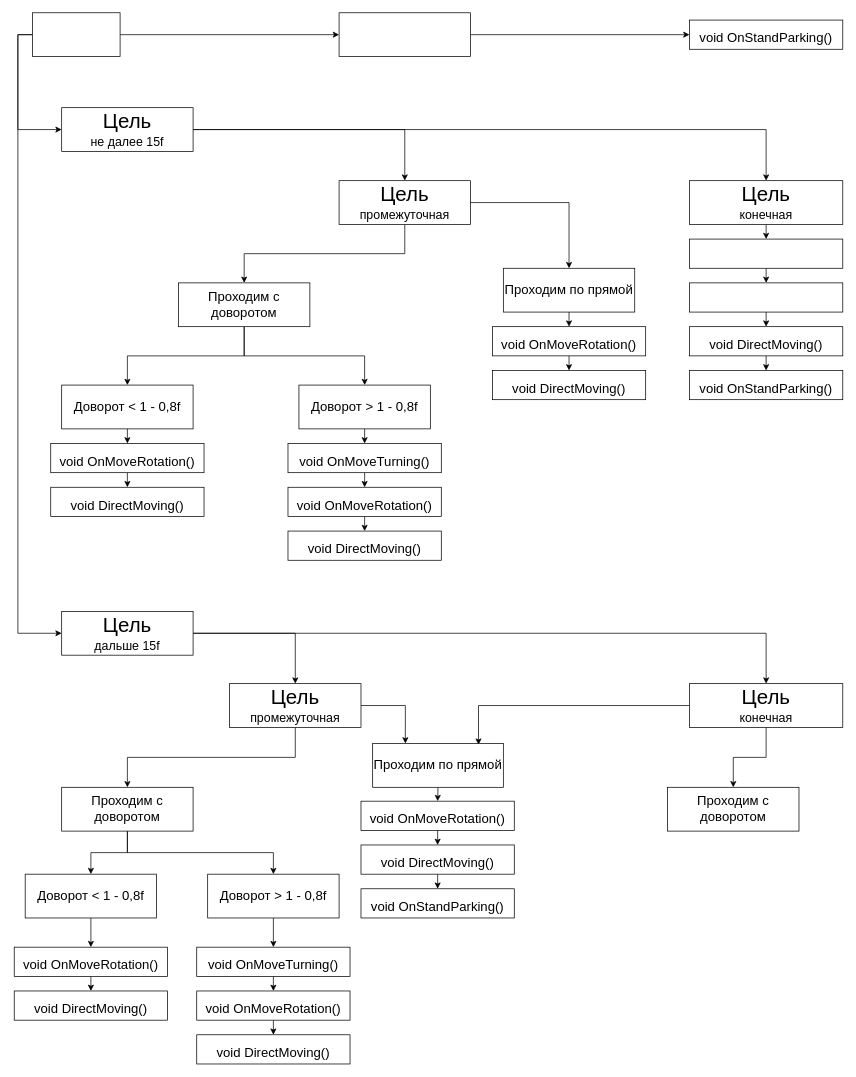
This 856x1077 diagram has some shape labels left out. Here are the shapes that lost their labels. From the top down, the centre of each, then its label:
At pixel 76 34: "Цель".
At pixel 404 34: "нет цели".
At pixel 766 253: "void OnStandRotation()".
At pixel 766 297: "void OnStandPrecition()".
